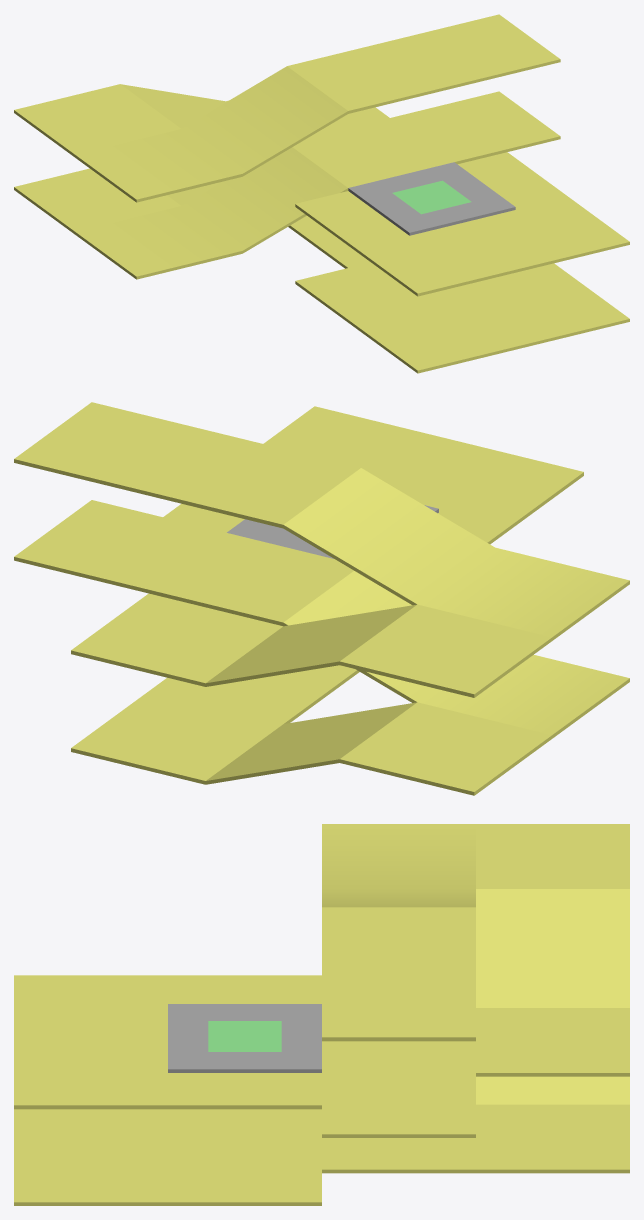
File: Passagem1.fbx
3 renders of one model, top to bottom at view 1: azimuth 30°, elevation 25°; view 2: azimuth 150°, elevation 25°; view 3: azimuth 270°, elevation 25°, orthographic. The views are drawn at different scales.
Visible parts, largest first — view 1: pCube75, pCube74, pCube78, pCube84; view 2: pCube75, pCube74, pCube78; view 3: pCube75, pCube74, pCube78, pCube84.
Part boxes in pixels (x1=…): pCube75: x1=14, y1=14, x2=629, y2=296; pCube74: x1=14, y1=91, x2=629, y2=373; pCube78: x1=348, y1=162, x2=515, y2=235; pCube84: x1=392, y1=180, x2=471, y2=214; pCube75: x1=14, y1=402, x2=629, y2=697; pCube74: x1=14, y1=500, x2=629, y2=795; pCube78: x1=227, y1=505, x2=438, y2=558; pCube75: x1=14, y1=824, x2=629, y2=1109; pCube74: x1=14, y1=1041, x2=629, y2=1205; pCube78: x1=168, y1=1004, x2=321, y2=1072; pCube84: x1=208, y1=1021, x2=281, y2=1051.
Size of the model in its own units: 3835 by 1383 by 3840.
